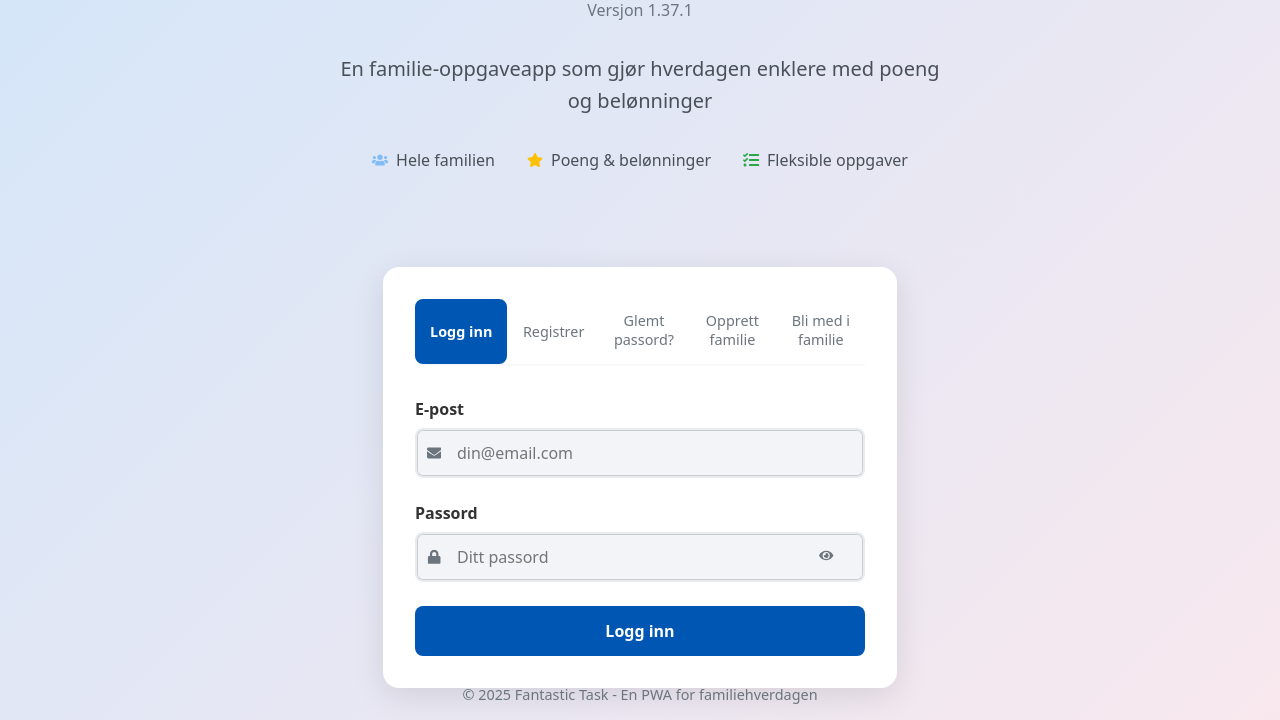
Test case: LoginPage › Form Interactions › Sign In › should handle sign in error
(page scrolled)
Type "test@example.com" into the field with placeholder "din@email.com" at (640, 453), box 415,428 -> 865,478
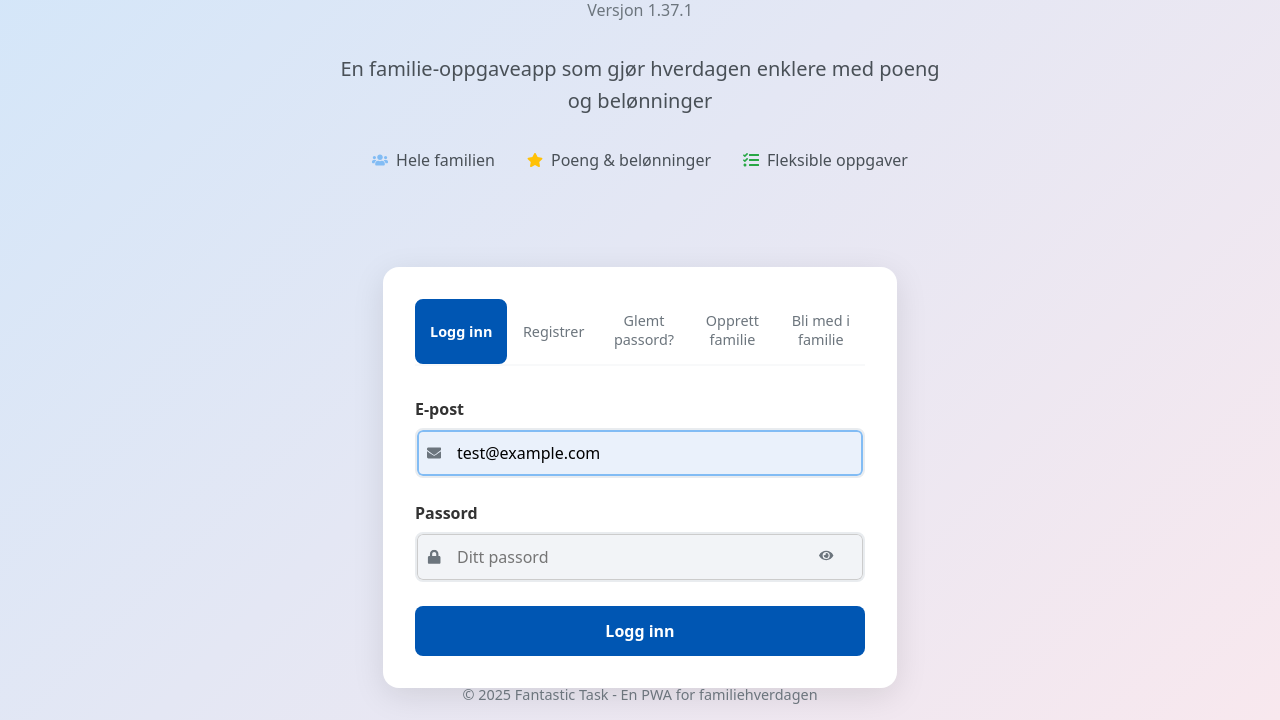
Type "wrongpassword" into the password field with placeholder "Ditt passord" at (640, 557), box 415,532 -> 865,582
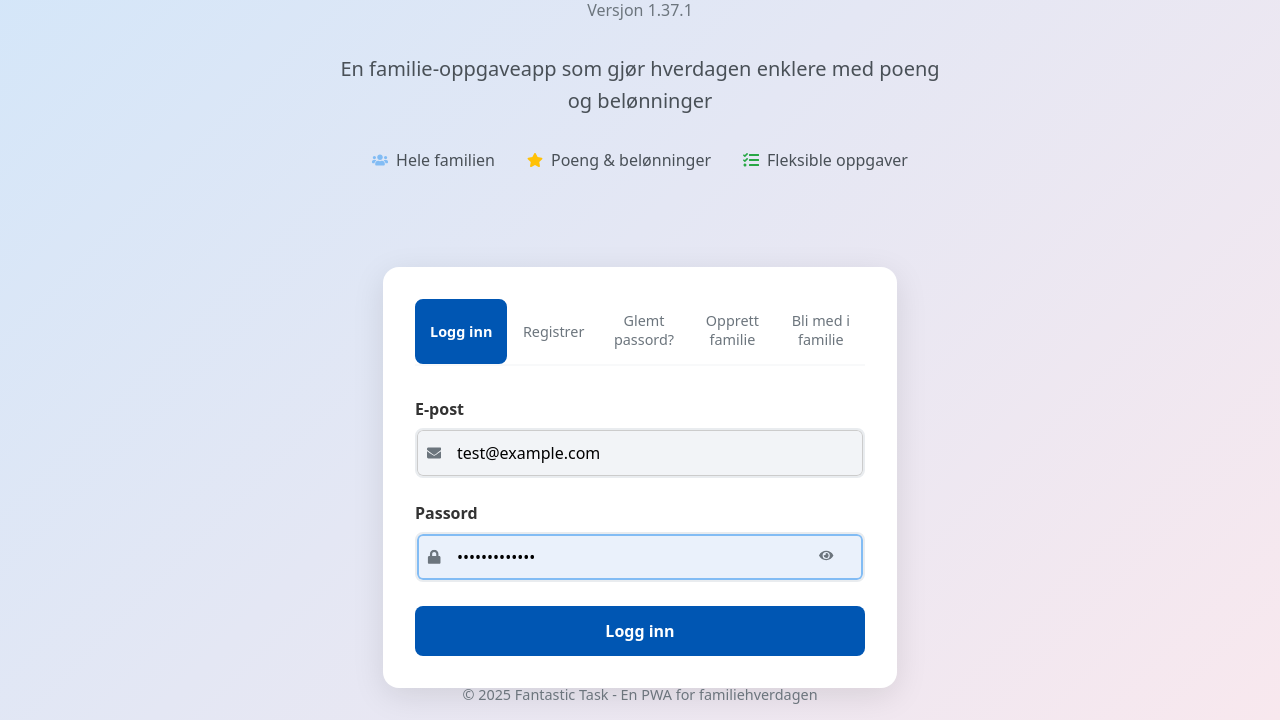
Click the button "Logg inn" below "E-post" at (640, 631), box 415,606 -> 865,656
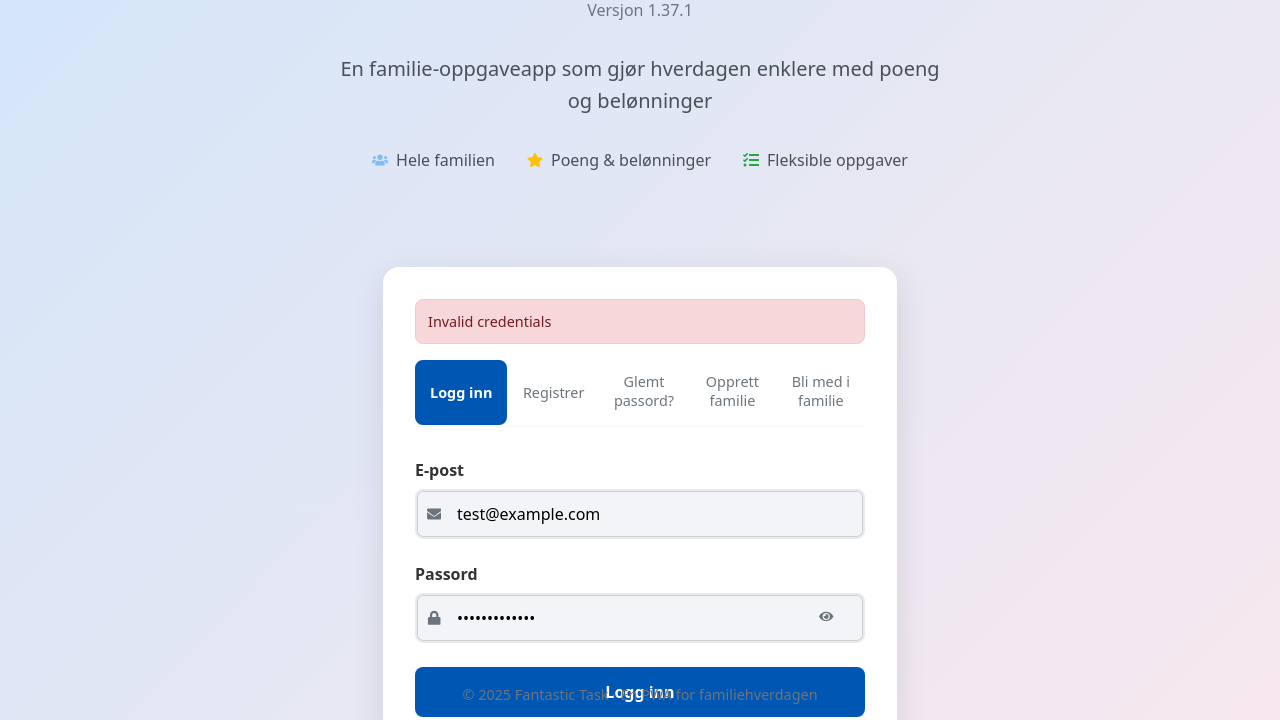
Result: the text "Invalid credentials" is shown at 415,299 -> 865,344
